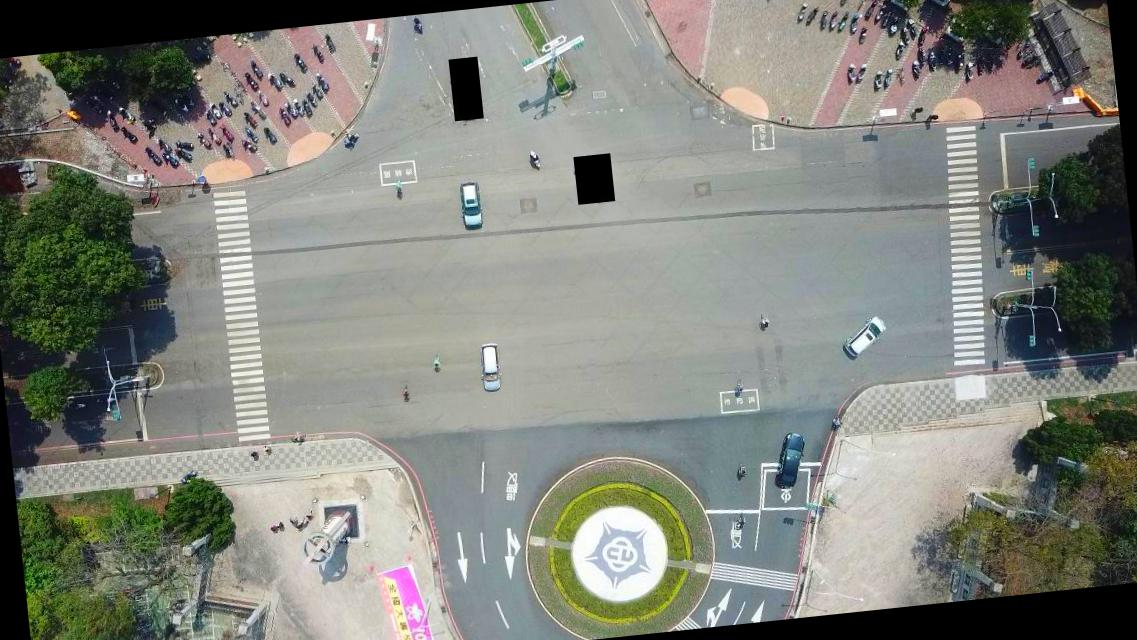vehicle: (768, 430, 810, 488), (840, 314, 890, 361), (477, 342, 502, 393), (459, 180, 484, 230)
